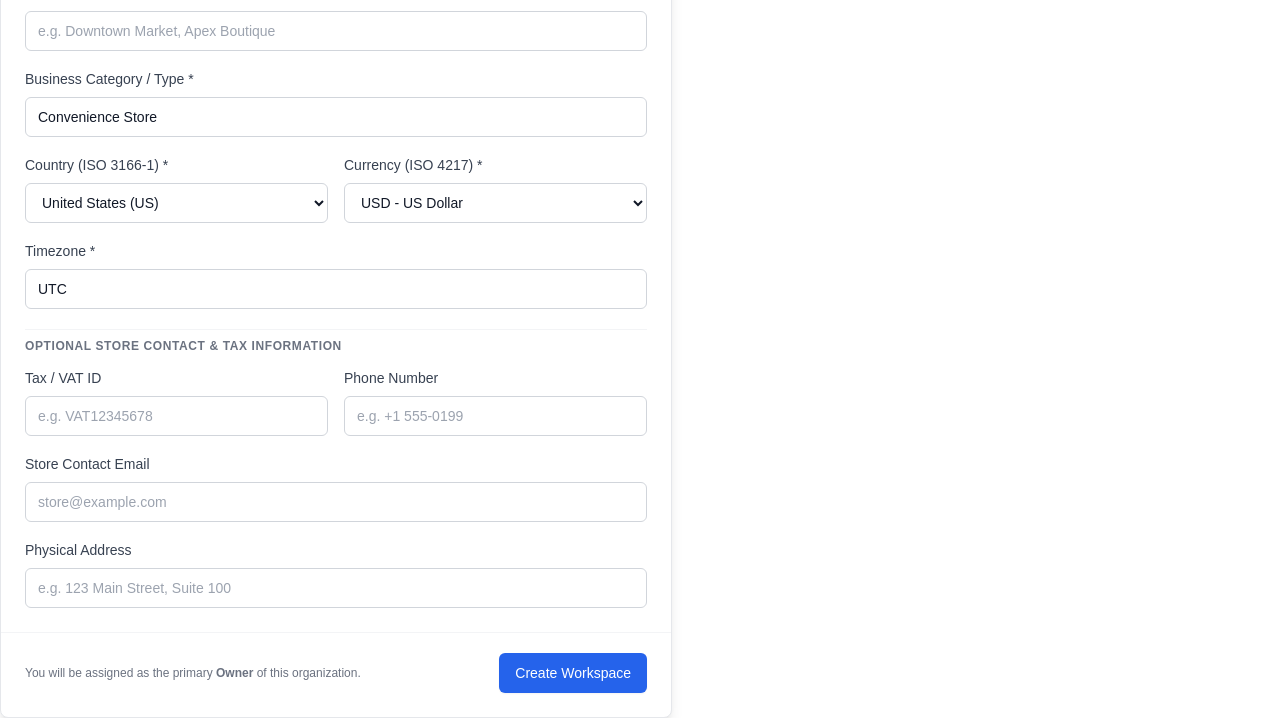
T031: CreateOrganizationForm Component › displays inline validation errors when submitting an empty store name
(page scrolled)
Click the button "Create Workspace". click: (573, 673)
box: [499,653,647,693]
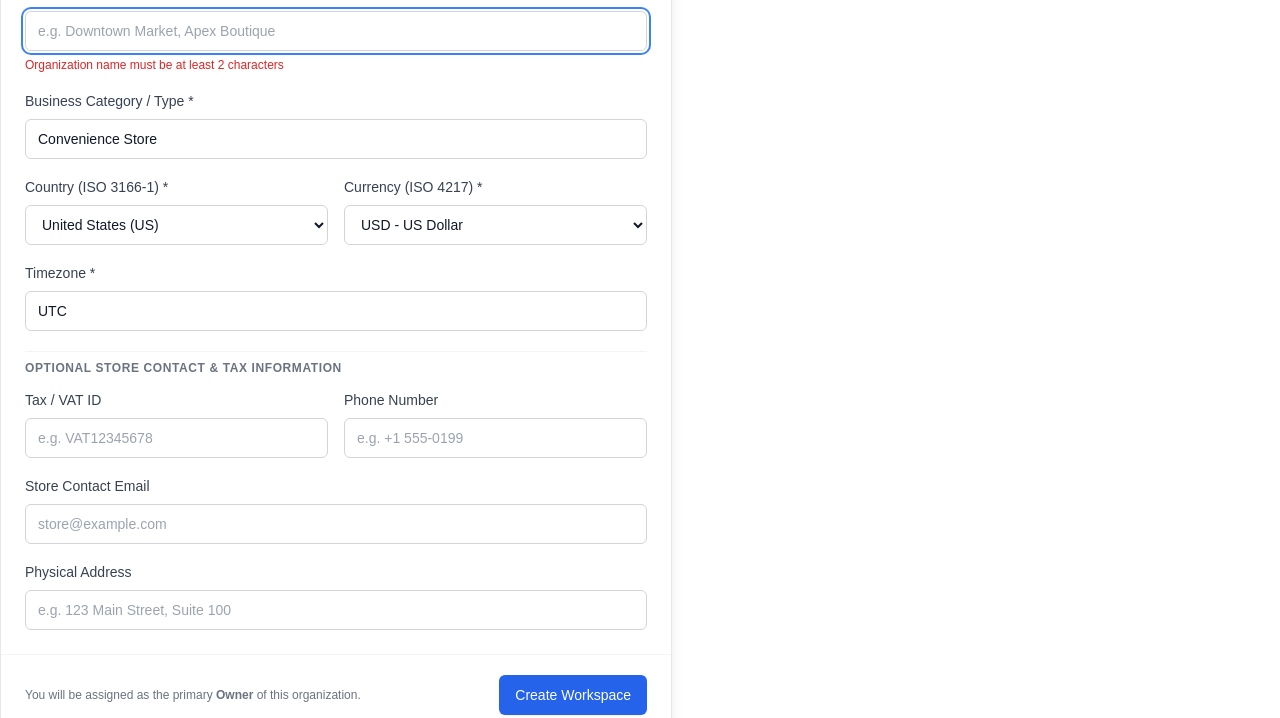
Expected: the text "Organization name must be at least 2 characters" is shown, [25,58,284,72]
